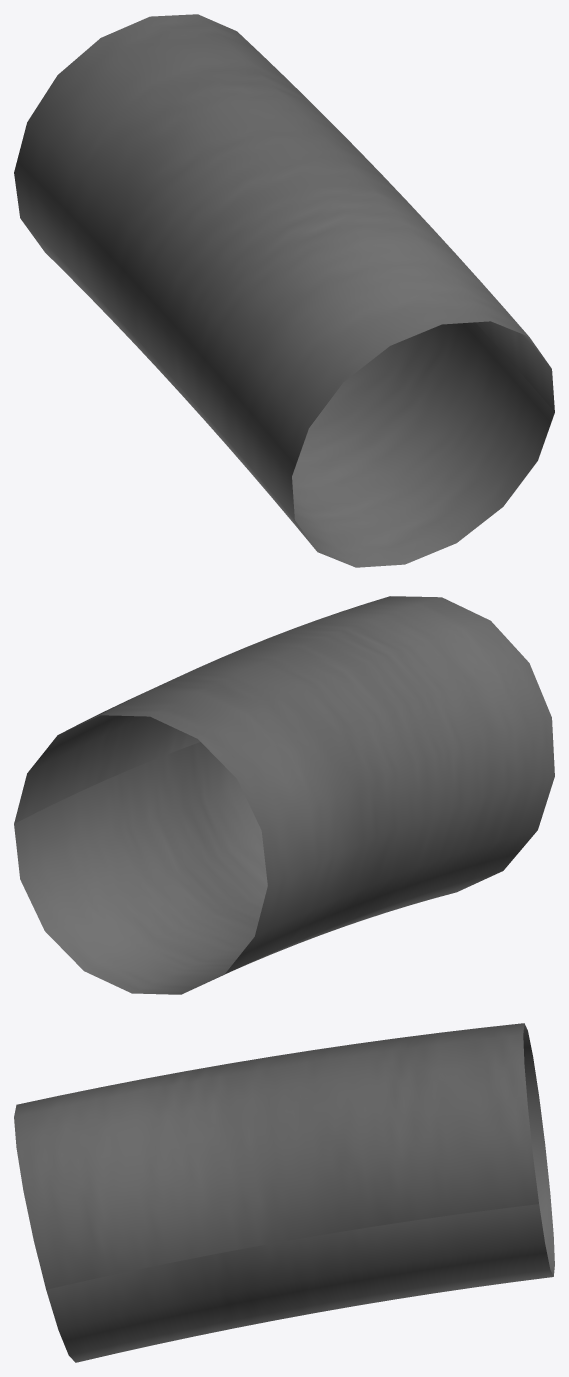
Rendered from mastarmcurve_4x1_c3.obj.
The picture shows the model from 3 angles, top to bottom: view 1: azimuth 30°, elevation 25°; view 2: azimuth 150°, elevation 25°; view 3: azimuth 270°, elevation 25°; orthographic projection. The views are drawn at different scales.
Parts seen in each view (by area): view 1: mastarm_4x1_c3; view 2: mastarm_4x1_c3; view 3: mastarm_4x1_c3.
Part boxes in pixels (bbox=[...]): mastarm_4x1_c3: bbox=[14, 14, 554, 567]; mastarm_4x1_c3: bbox=[14, 596, 554, 994]; mastarm_4x1_c3: bbox=[14, 1023, 554, 1362].
Bounding box in the file's own units: 0.5375 × 0.7056 × 1.1.
